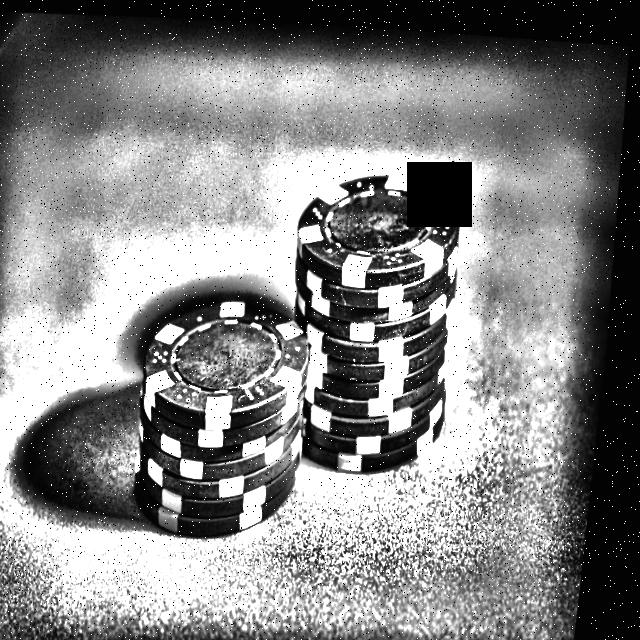Chip: (269, 153, 497, 478), (120, 277, 337, 551)
